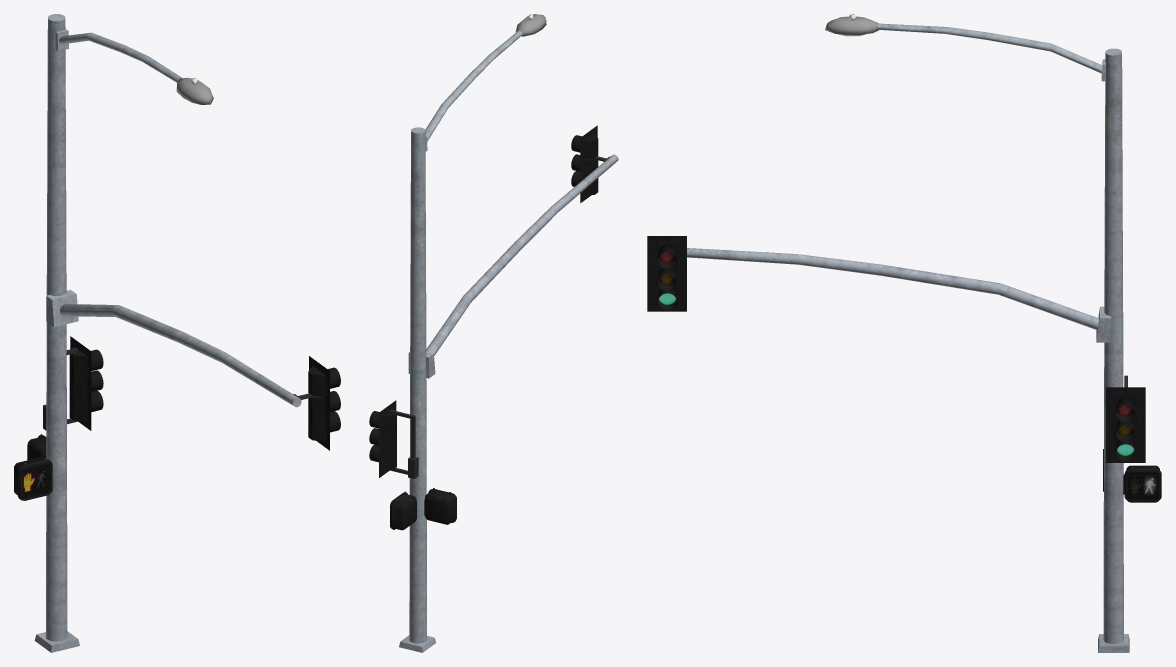
The model's file is traffic_light.glb.
3 renders of one model, left to right at view 1: azimuth 30°, elevation 25°; view 2: azimuth 150°, elevation 25°; view 3: azimuth 270°, elevation 25°, orthographic. The views are drawn at different scales.
Parts seen in each view (by area): view 1: Cylinder.218, Urban_Sprawl_2.026, Cube.102, Cube.103, hous.026, Cylinder.155, Plane.041, Plane.023, Cube.101; view 2: Cylinder.218, Urban_Sprawl_2.026, Urban_Sprawl_2.027, Cube.102, Cube.065, Cylinder.155, Cube.103; view 3: Cylinder.218, Plane.023, Plane.041, Urban_Sprawl_2.027, Cylinder.155, hous.025.
Boxes of the visible parts, box(x1,y1,x2,y2) form: Cylinder.218: box(34, 14, 301, 652); Urban_Sprawl_2.026: box(14, 457, 52, 500); Cube.102: box(69, 346, 87, 421); Cube.103: box(308, 396, 326, 441); hous.026: box(21, 462, 52, 500); Cylinder.155: box(176, 77, 213, 104); Plane.041: box(70, 336, 91, 430); Plane.023: box(309, 356, 329, 450); Cube.101: box(308, 366, 326, 396); Cylinder.218: box(399, 31, 618, 652); Urban_Sprawl_2.026: box(425, 488, 456, 524); Urban_Sprawl_2.027: box(390, 491, 416, 530); Cube.102: box(382, 409, 396, 470); Cube.065: box(389, 410, 418, 478); Cylinder.155: box(515, 14, 546, 36); Cube.103: box(583, 158, 598, 195); Cylinder.218: box(687, 23, 1129, 652); Plane.023: box(647, 236, 686, 311); Plane.041: box(1106, 387, 1145, 462); Urban_Sprawl_2.027: box(1124, 465, 1161, 502); Cylinder.155: box(825, 14, 878, 36); hous.025: box(1126, 471, 1160, 501).
Size of the model in its own units: 1.51 by 10.59 by 7.83.
Materials: 14 (10 with a texture image).
